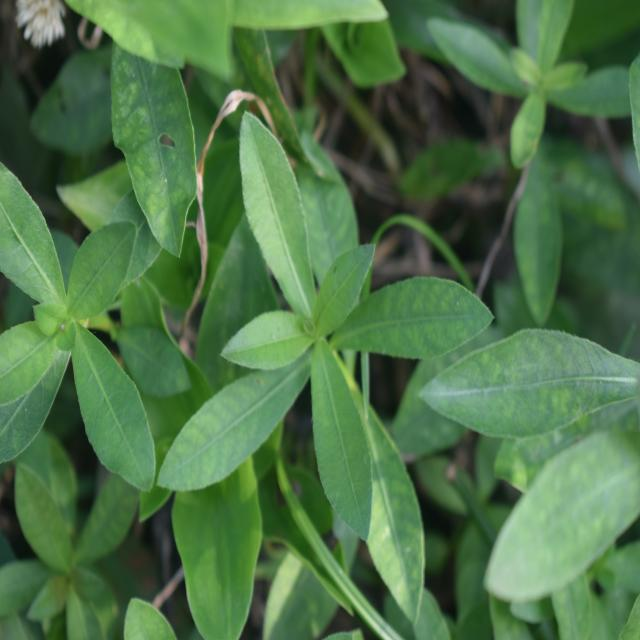Alligatorweed: (211, 124, 464, 580)
